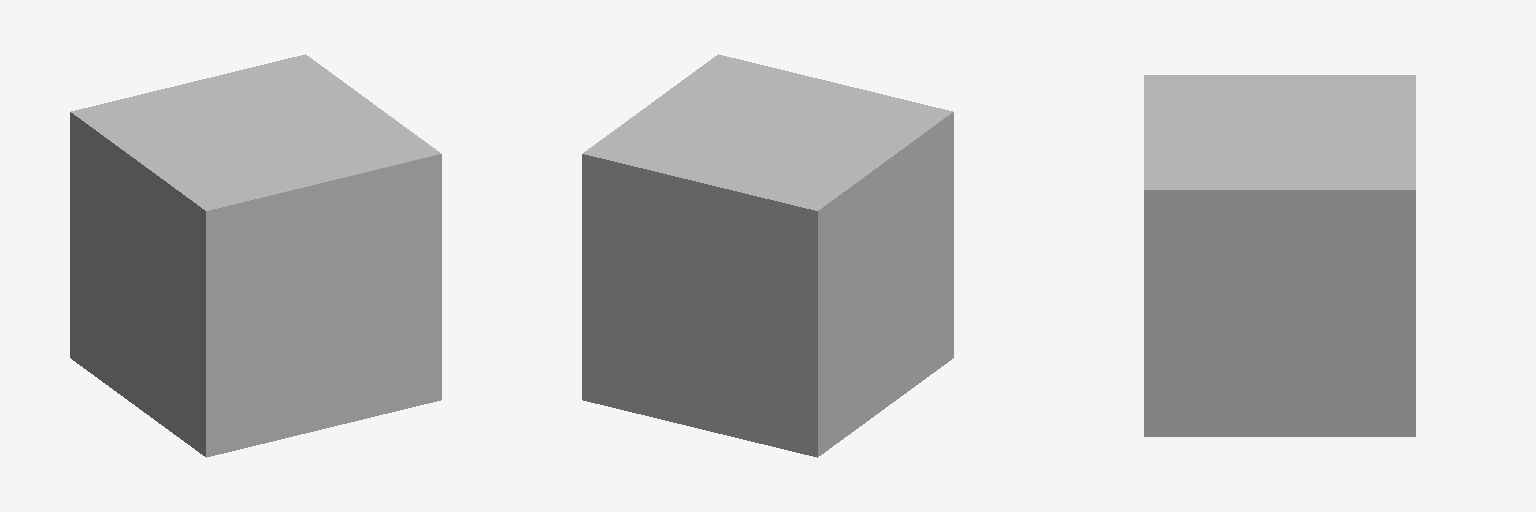
The model's file is cubes_wall3.obj.
3 renders of one model, left to right at view 1: azimuth 30°, elevation 25°; view 2: azimuth 150°, elevation 25°; view 3: azimuth 270°, elevation 25°, orthographic.
Bounding box in the file's own units: 0.1 × 0.1 × 0.1.